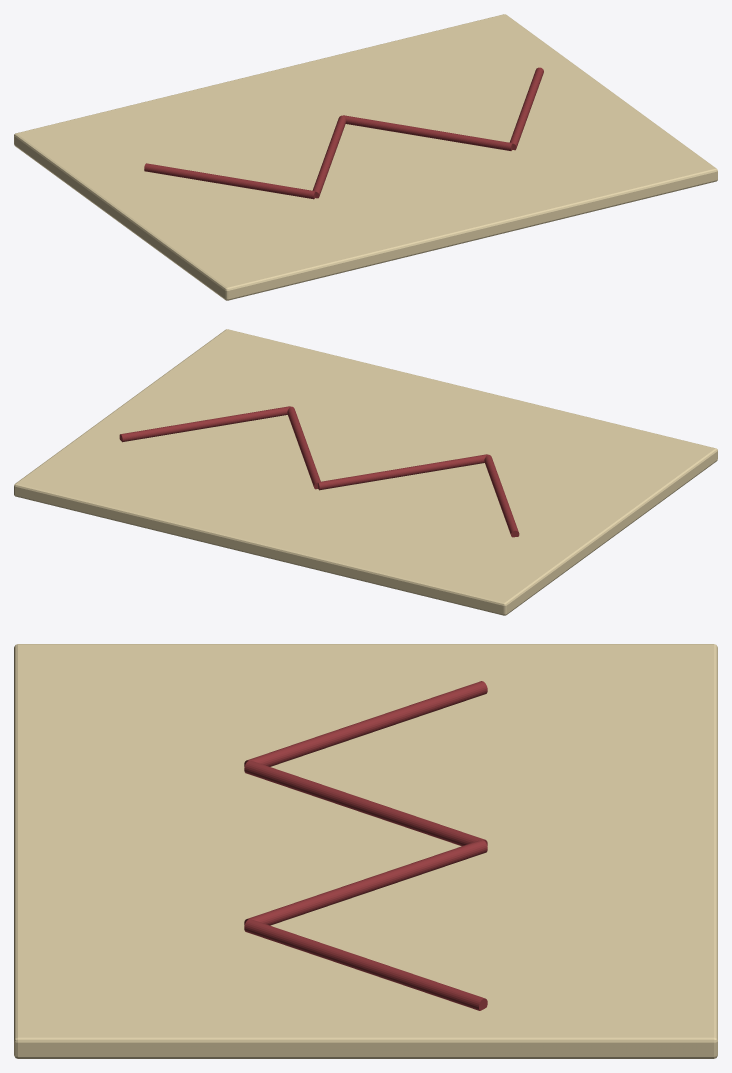
The model's file is peta.glb.
3 views of the same model, one above another, from view 1: azimuth 30°, elevation 25°; view 2: azimuth 150°, elevation 25°; view 3: azimuth 270°, elevation 25° (orthographic). The views are drawn at different scales.
Visible parts, largest first — view 1: Kertas peta, Jalur, Jalur.002, Jalur.003, Jalur.001; view 2: Kertas peta, Jalur.003, Jalur.001, Jalur, Jalur.002; view 3: Kertas peta, Jalur.003, Jalur.002, Jalur.001, Jalur.
Boxes of the visible parts, bbox=[...] form: Kertas peta: bbox=[14, 14, 717, 300]; Jalur: bbox=[144, 163, 315, 199]; Jalur.002: bbox=[343, 115, 512, 150]; Jalur.003: bbox=[509, 67, 543, 150]; Jalur.001: bbox=[312, 115, 345, 198]; Kertas peta: bbox=[14, 329, 717, 615]; Jalur.003: bbox=[119, 406, 290, 442]; Jalur.001: bbox=[318, 454, 487, 490]; Jalur: bbox=[484, 454, 519, 537]; Jalur.002: bbox=[287, 406, 320, 489]; Kertas peta: bbox=[14, 644, 717, 1058]; Jalur.003: bbox=[244, 919, 487, 1010]; Jalur.002: bbox=[244, 840, 487, 925]; Jalur.001: bbox=[244, 761, 487, 846]; Jalur: bbox=[244, 681, 487, 766].
Size of the model in its own units: 0.4 by 0.015 by 0.3.
